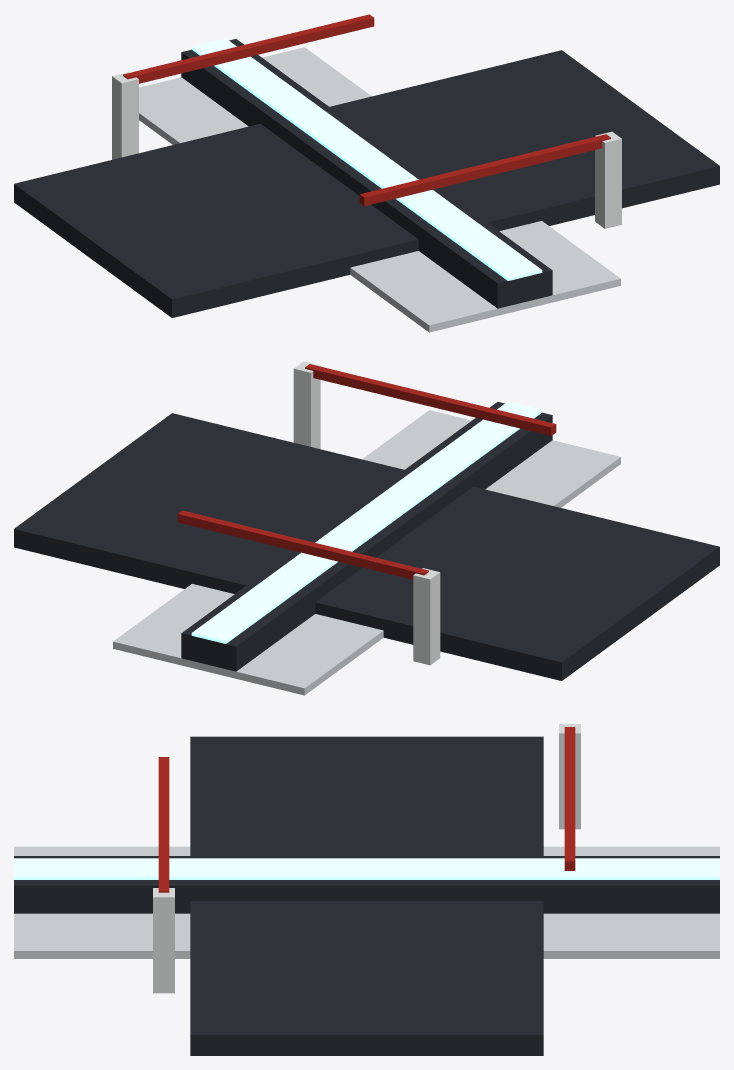
File: road_rail_x_crossing_lod1.glb
3 views of the same model, one above another, from view 1: azimuth 30°, elevation 25°; view 2: azimuth 150°, elevation 25°; view 3: azimuth 270°, elevation 25° (orthographic). The views are drawn at different scales.
Parts seen in each view (by area): view 1: body, barrier_1, barrier_0; view 2: body, barrier_0, barrier_1; view 3: body, barrier_1, barrier_0.
Part boxes in pixels (x1,y1,x2,y2): body: [14, 38, 719, 332]; barrier_1: [359, 131, 621, 228]; barrier_0: [112, 14, 374, 159]; body: [14, 401, 719, 695]; barrier_0: [177, 510, 440, 665]; barrier_1: [293, 361, 556, 449]; body: [14, 736, 719, 1055]; barrier_1: [153, 757, 174, 993]; barrier_0: [559, 724, 580, 870].
Size of the model in its own units: 8 by 1.22 by 8.
